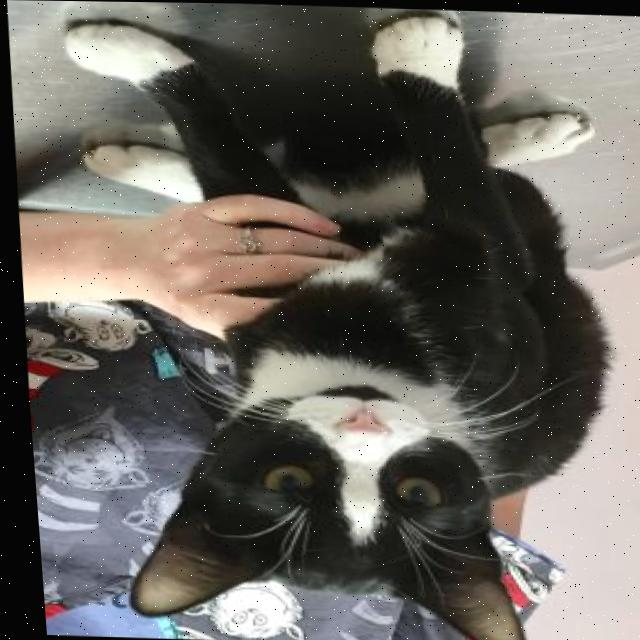Tuxedo: (40, 0, 628, 640)
